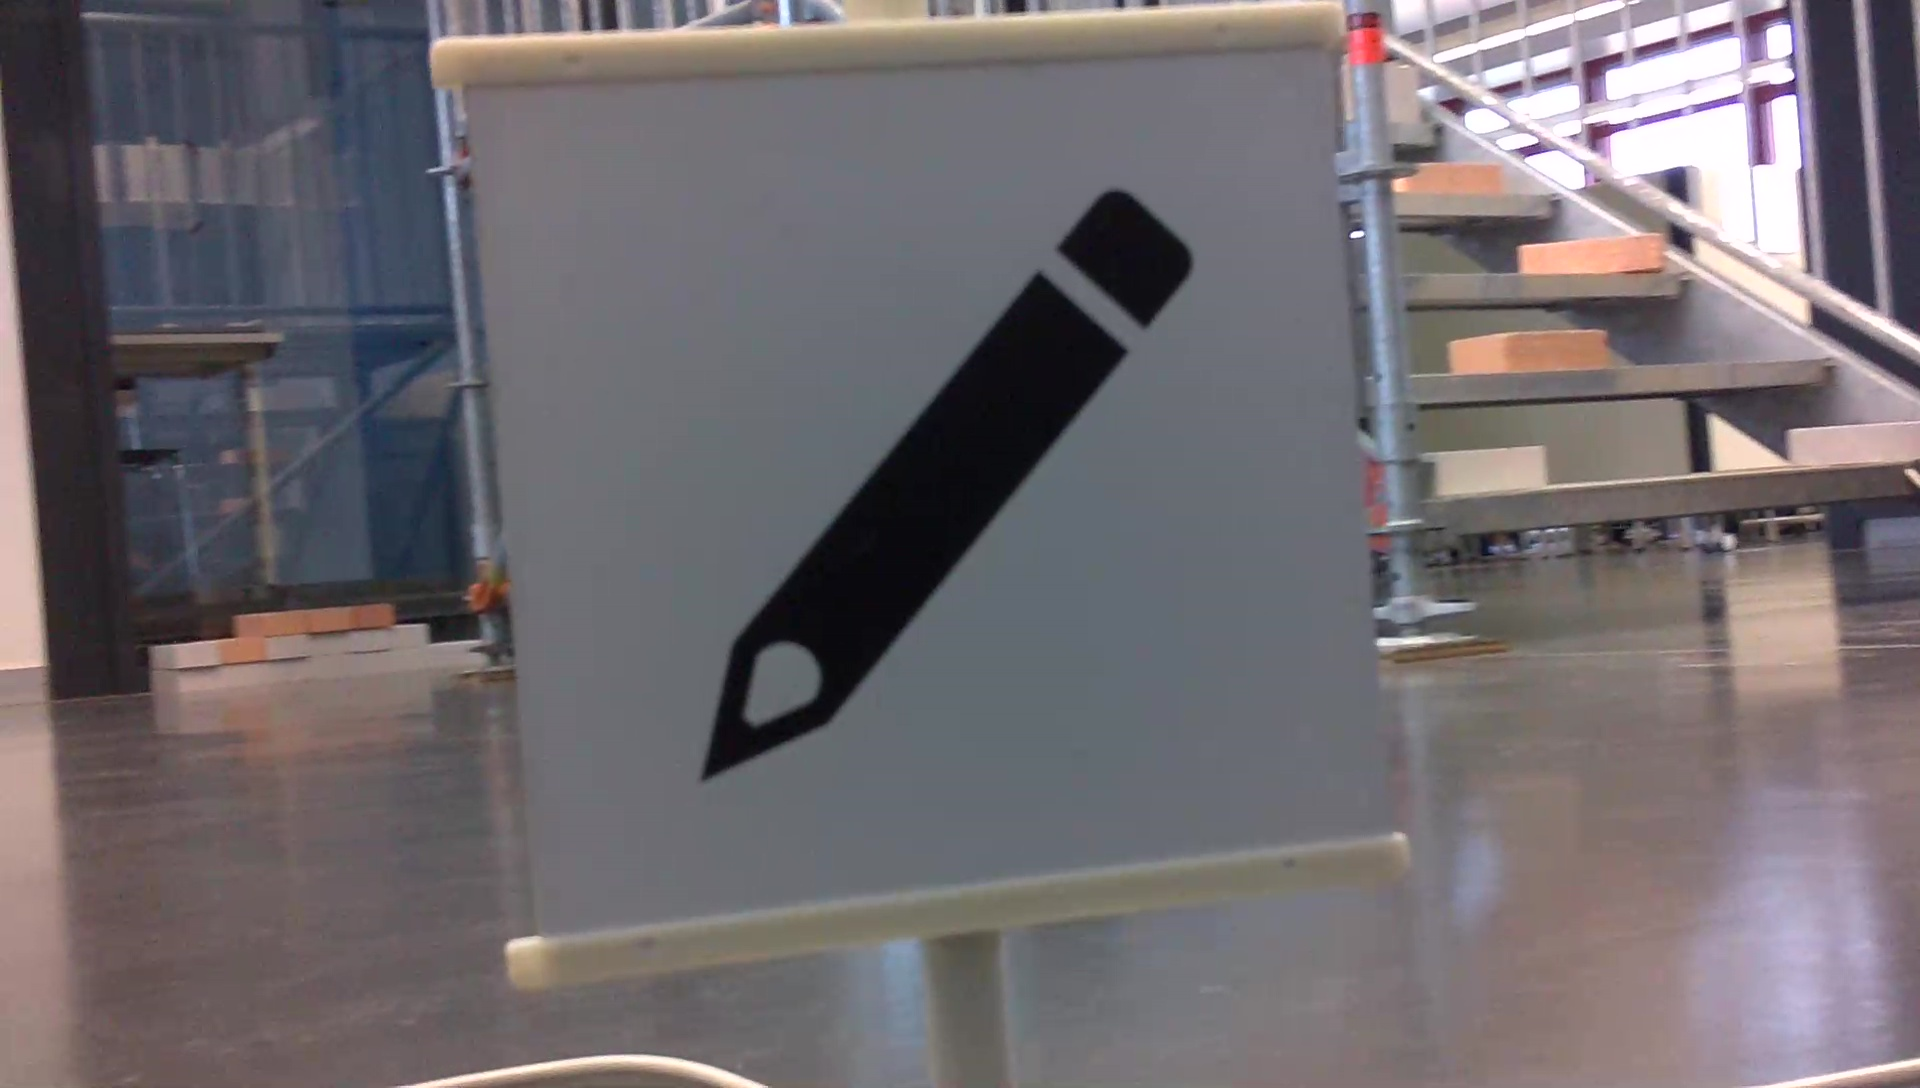brick: (1451, 332, 1602, 371), (1789, 425, 1915, 466), (1523, 237, 1662, 273), (1433, 448, 1543, 491), (1404, 162, 1501, 193), (1382, 65, 1418, 120)
edge: (1432, 468, 1915, 528), (1412, 355, 1833, 398), (1407, 266, 1685, 301), (1390, 193, 1557, 218)
pencil: (678, 167, 1216, 801)
